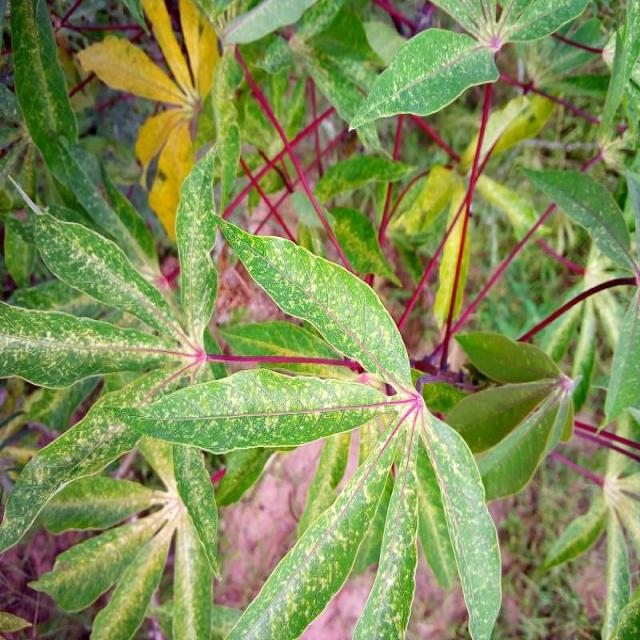cassava leaf: (212, 208, 416, 394), (348, 25, 501, 132)
